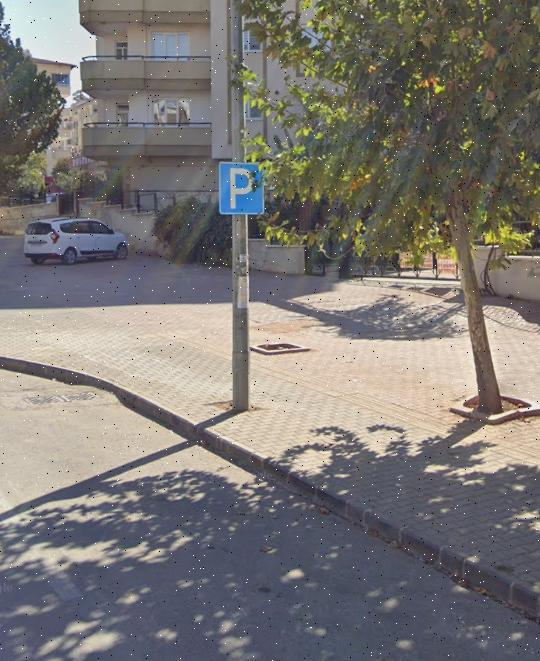park: (221, 164, 264, 214)
